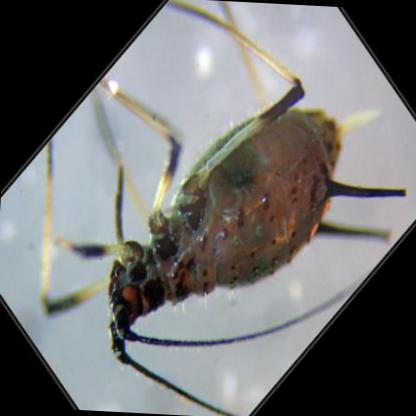uroleucon compositae: (45, 9, 406, 365)
